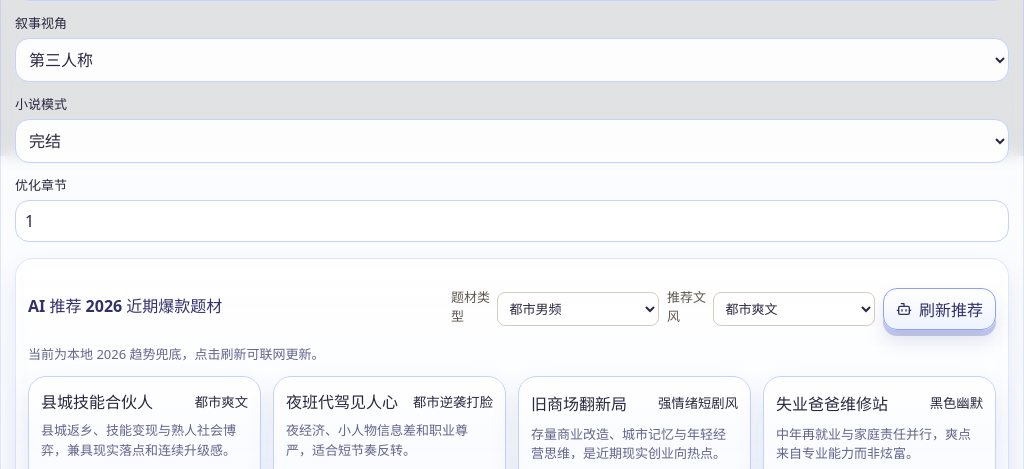
Test: Workspace progress › keeps local topic recommendations usable when online refresh fails
The image size is (1024, 469).
(page scrolled)
Click the button "刷新推荐" at (940, 309), box [883, 288, 996, 330]
(page scrolled)
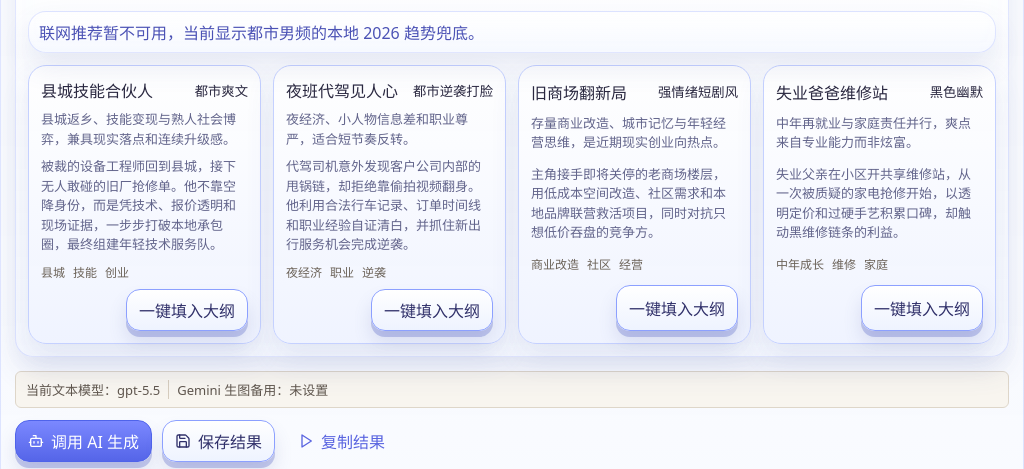
Expected: the button "一键填入大纲" below "县城返乡、技能变现与熟人社会博弈，兼具现实落点和连续升级感。" is shown, [126, 288, 248, 330]
Expected: the text "联网推荐暂不可用，当前显示都市男频的本地 2026 趋势兜底。" is shown, [28, 11, 996, 53]
